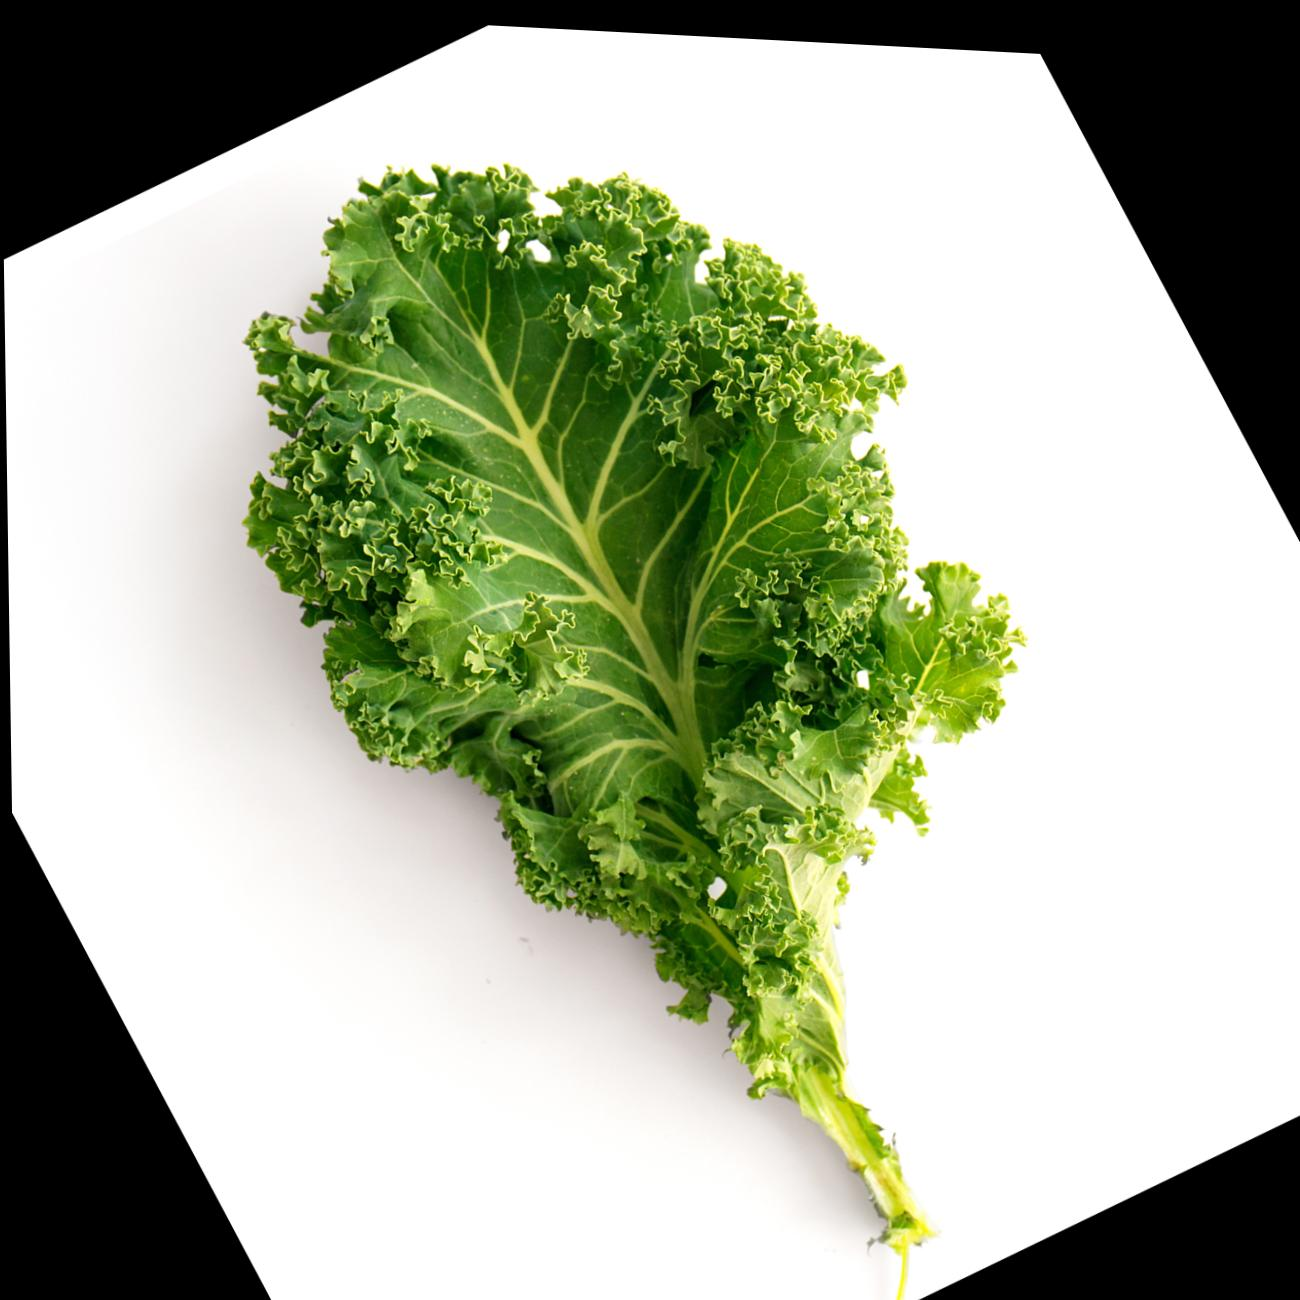organic: (4, 0, 1299, 1299)
